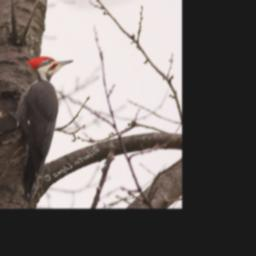Woodpecker: (12, 56, 76, 199)
